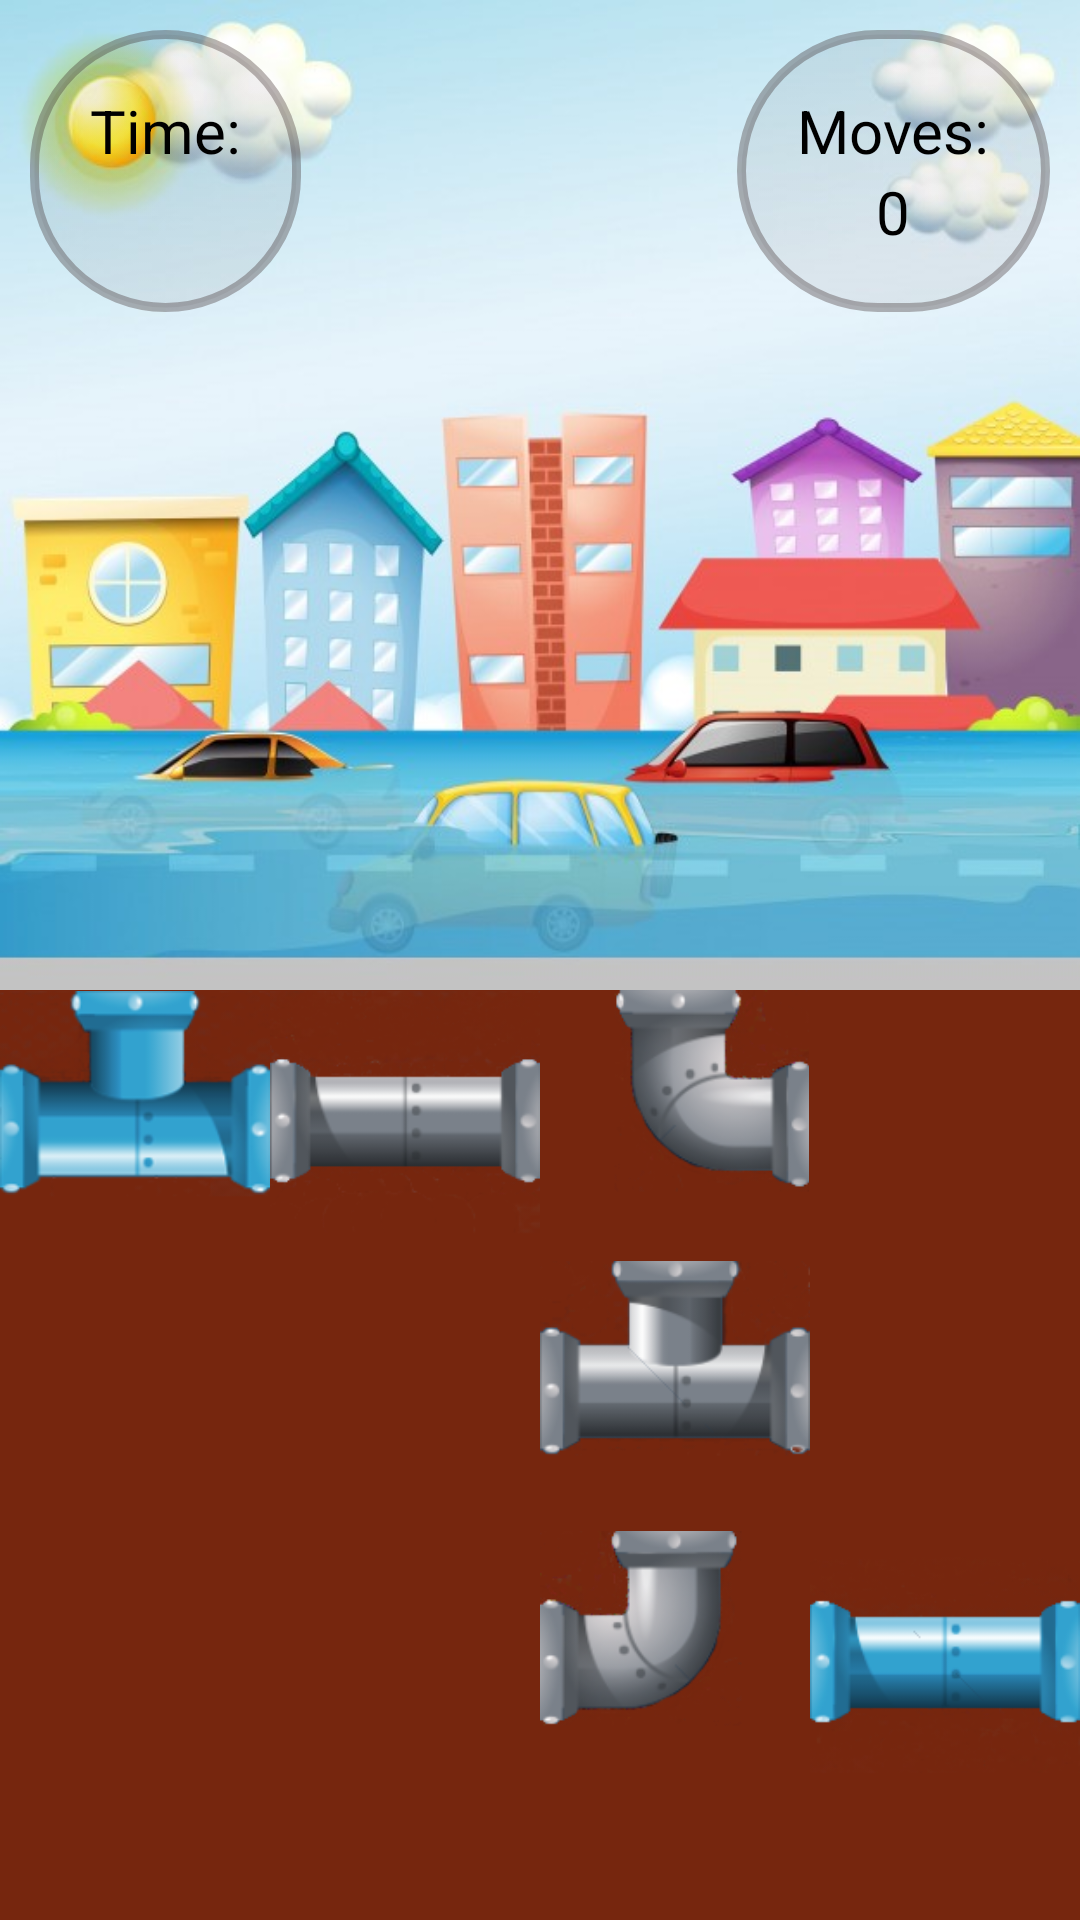

Icon click points for this 1080 x 1920 phone screenshot, format (x=x, y=y):
pipe borders lefttop: (x=638, y=1628)
pipe borders righttop: (x=675, y=1125)
pipe fork top: (x=135, y=1125), (x=675, y=1357)
pipe straight: (x=405, y=1121), (x=945, y=1661)
